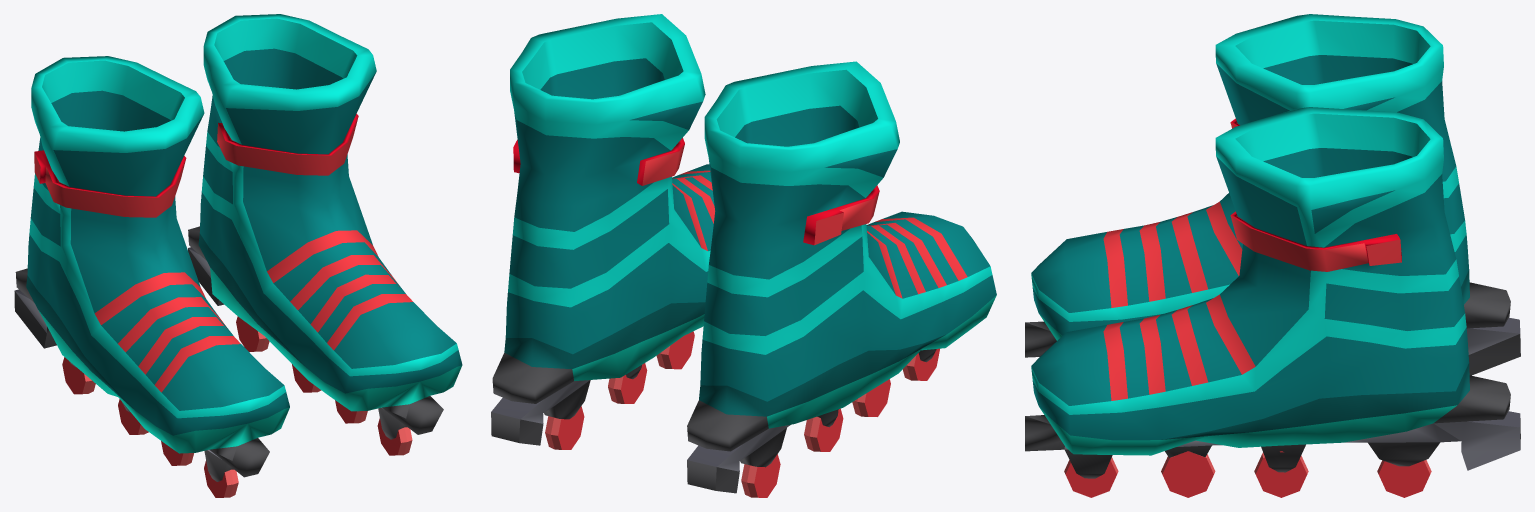
3 views of the same model, side by side, from view 1: azimuth 30°, elevation 25°; view 2: azimuth 150°, elevation 25°; view 3: azimuth 270°, elevation 25° (orthographic). The views are drawn at different scales.
Parts seen in each view (by area): view 1: Feet_Rollers; view 2: Feet_Rollers; view 3: Feet_Rollers.
Part boxes in pixels (x1,y1,x2,y2): Feet_Rollers: (14, 14, 462, 497); Feet_Rollers: (491, 14, 996, 497); Feet_Rollers: (1025, 14, 1520, 497).
Size of what is drawn, in the model's own units: 0.3474 by 0.3236 by 0.4063.
Materials: 1 (1 with a texture image).
